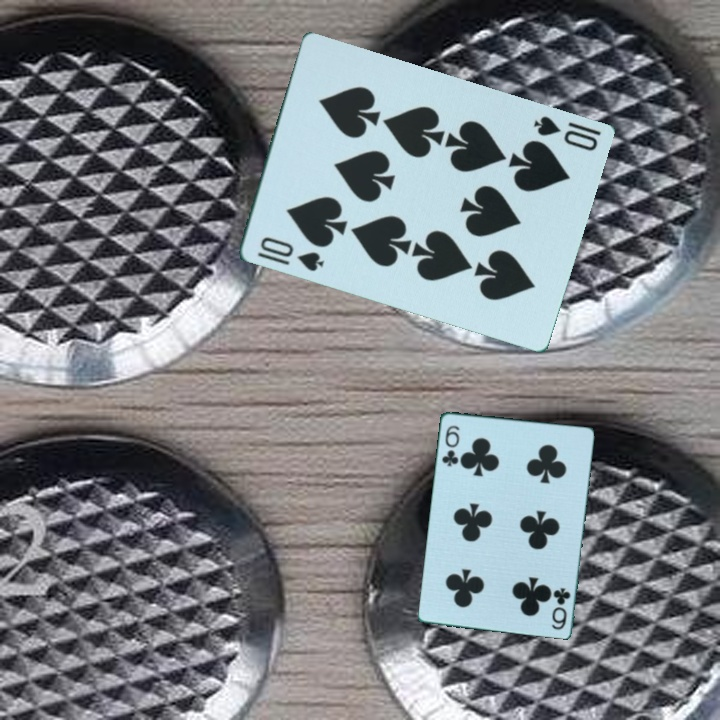10s: (529, 112, 603, 155), (256, 233, 326, 275)
6c: (548, 584, 573, 632), (438, 421, 462, 469)
